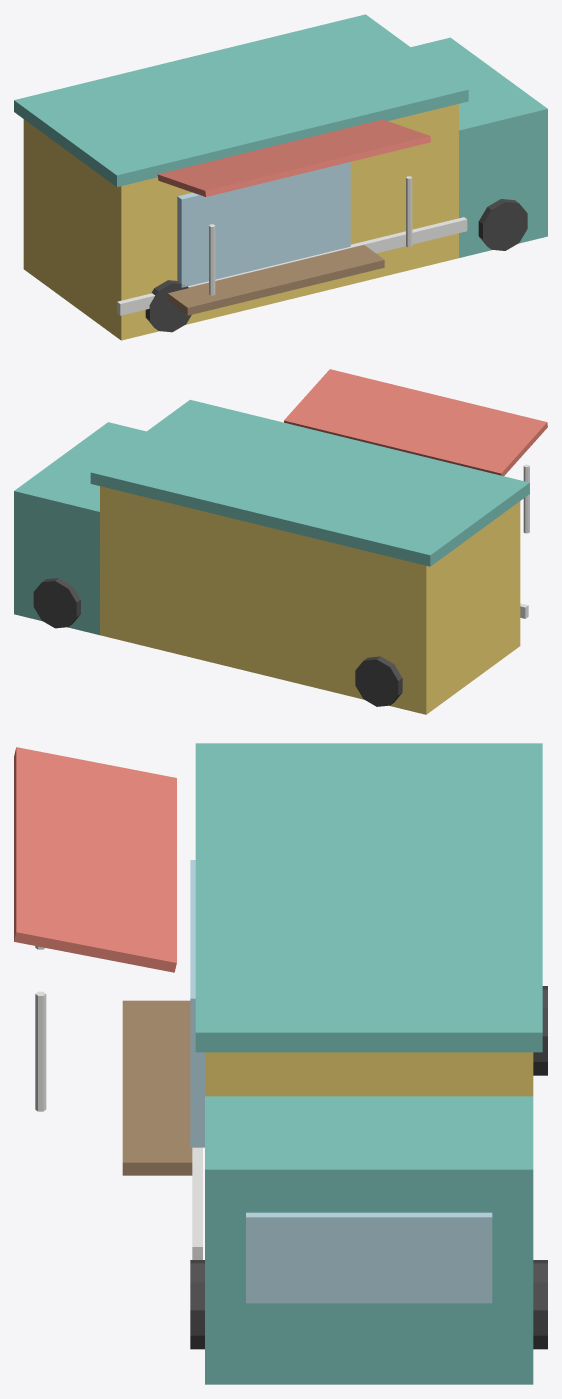
Rendered from food_truck.glb.
3 renders of one model, top to bottom at view 1: azimuth 30°, elevation 25°; view 2: azimuth 150°, elevation 25°; view 3: azimuth 270°, elevation 25°, orthographic. The views are drawn at different scales.
Parts seen in each view (by area): view 1: FoodTruck.001; view 2: FoodTruck.001; view 3: FoodTruck.001.
Boxes of the visible parts, bbox=[...] form: FoodTruck.001: bbox=[14, 14, 547, 340]; FoodTruck.001: bbox=[14, 369, 547, 714]; FoodTruck.001: bbox=[14, 743, 547, 1384].
Size of the model in its own units: 4.68 by 1.87 by 2.93.
